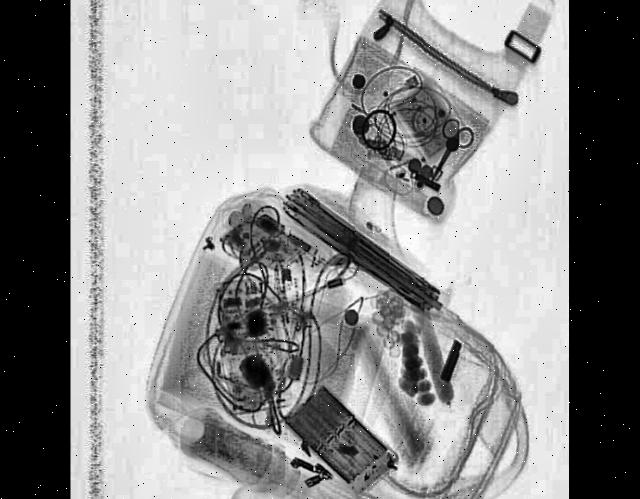Scissors: (422, 108, 476, 191)
